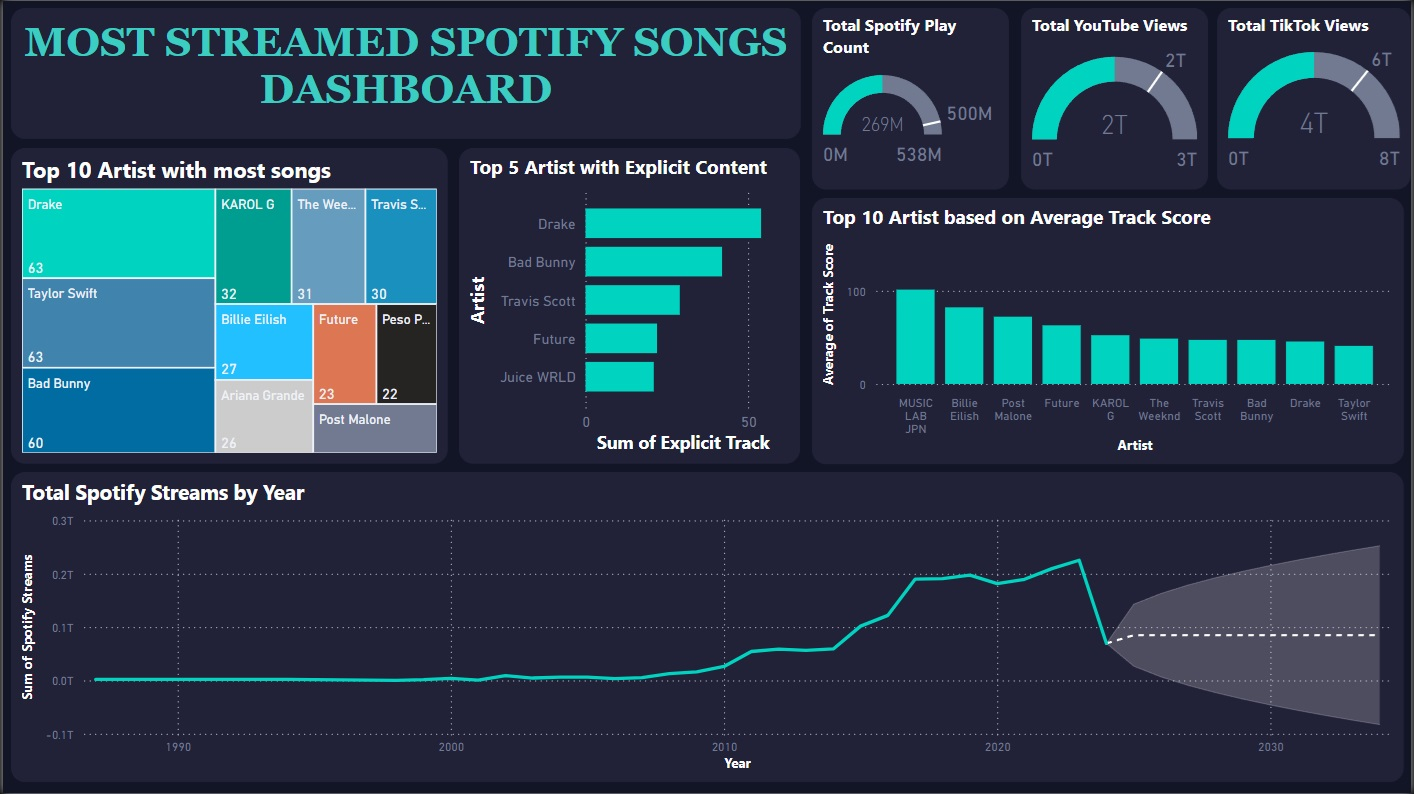

The dashboard page shown, as its layout file describes it:
{"tool":"powerbi","page":{"name":"MOST STREAMED SPOTIFY SONGS DASHBOARD","canvas":[1280,720],"ordinal":0},"visuals":[{"type":"columnChart","title":"Top 10 Artist based on Average Track Score","fields":{"Category":["Most Streamed Spotify Songs 2024.Artist"],"Y":["Most Streamed Spotify Songs 2024.Track Score"]},"box":[735.1,179.1,538.2,242.1],"z":0},{"type":"lineChart","title":"Total Spotify Streams by Year","fields":{"Y":["Most Streamed Spotify Songs 2024.Spotify Streams"],"Category":["Most Streamed Spotify Songs 2024.Release Date.Variation.Date Hierarchy.Year"]},"box":[7.1,428.3,1266.2,282],"z":1000},{"type":"gauge","title":"Total Spotify Play Count","fields":{"Y":["Most Streamed Spotify Songs 2024.Spotify Playlist Count"]},"box":[735.1,6.2,179.1,164.9],"z":2000},{"type":"gauge","title":"Total TikTok Views","fields":{"Y":["Most Streamed Spotify Songs 2024.TikTok Views"]},"box":[1103.9,6.2,176.5,164.9],"z":3000},{"type":"gauge","title":"Total YouTube Views","fields":{"Y":["Most Streamed Spotify Songs 2024.YouTube Views"]},"box":[925.7,6.2,170.2,164.9],"z":4000},{"type":"clusteredBarChart","title":"Top 5 Artist with Explicit Content","fields":{"Category":["Most Streamed Spotify Songs 2024.Artist"],"Y":["Most Streamed Spotify Songs 2024.Explicit Track"]},"box":[415,133.9,310.3,287.3],"z":5000},{"type":"textbox","box":[7.1,6.2,718.2,118.8],"z":6000},{"type":"treemap","title":"Top 10 Artist with most songs","fields":{"Group":["Most Streamed Spotify Songs 2024.Artist"],"Values":["Most Streamed Spotify Songs 2024.Artist"]},"box":[7.1,133.9,397.2,287.3],"z":7000}]}

Visuals, with their boxes in screenshot pixels (x1, y1, x2, y2), scaled from the page's 1280x720 canvas onto the 1414x794 screenshot:
"Top 10 Artist based on Average Track Score" columnChart: BBox(812, 198, 1407, 464)
"Total Spotify Streams by Year" lineChart: BBox(8, 472, 1407, 783)
"Total Spotify Play Count" gauge: BBox(812, 7, 1010, 189)
"Total TikTok Views" gauge: BBox(1219, 7, 1413, 189)
"Total YouTube Views" gauge: BBox(1023, 7, 1211, 189)
"Top 5 Artist with Explicit Content" clusteredBarChart: BBox(458, 148, 801, 464)
textbox: BBox(8, 7, 801, 138)
"Top 10 Artist with most songs" treemap: BBox(8, 148, 447, 464)
